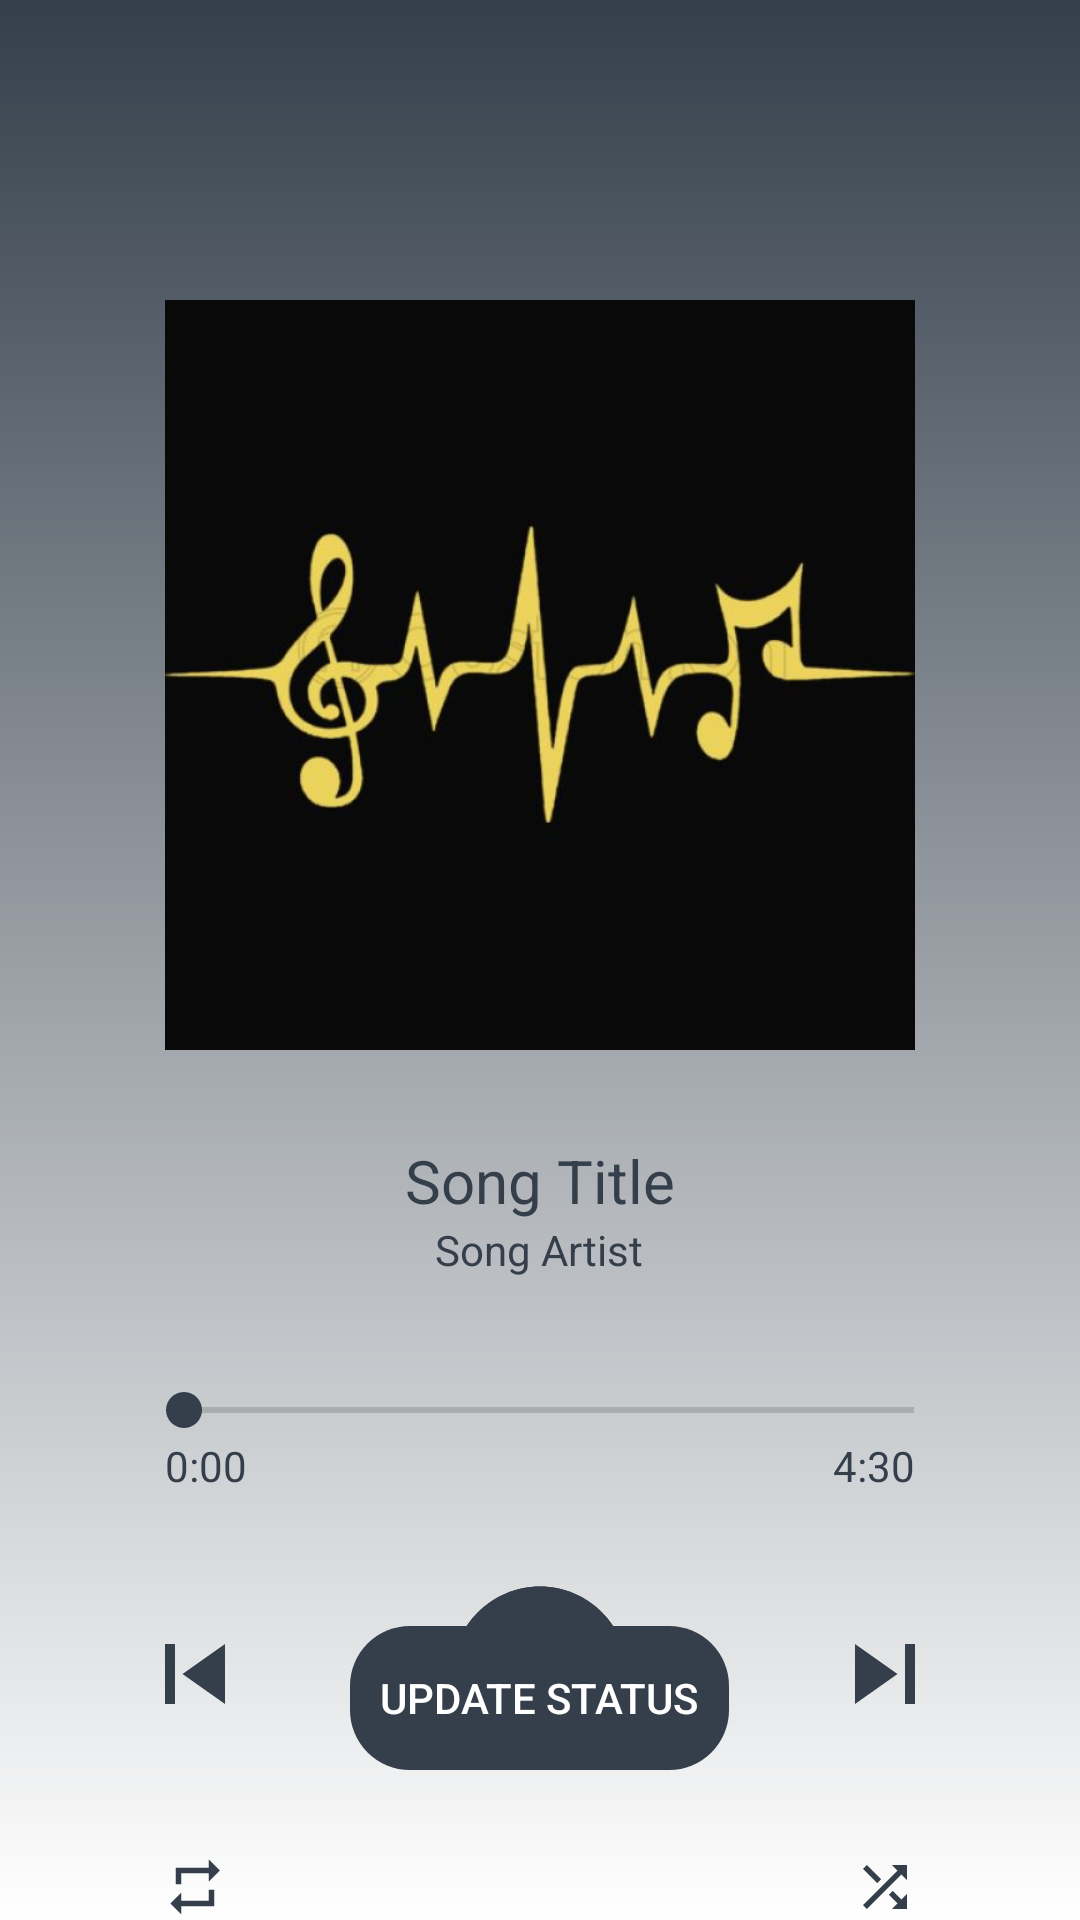

Screen size 1080×1920. Icon name, then its box in pixels as (x1, y1, x2, y2):
repeat: (170, 1859, 220, 1914)
shuffle: (863, 1865, 907, 1909)
skip next: (855, 1644, 915, 1704)
skip previous: (165, 1644, 225, 1704)
